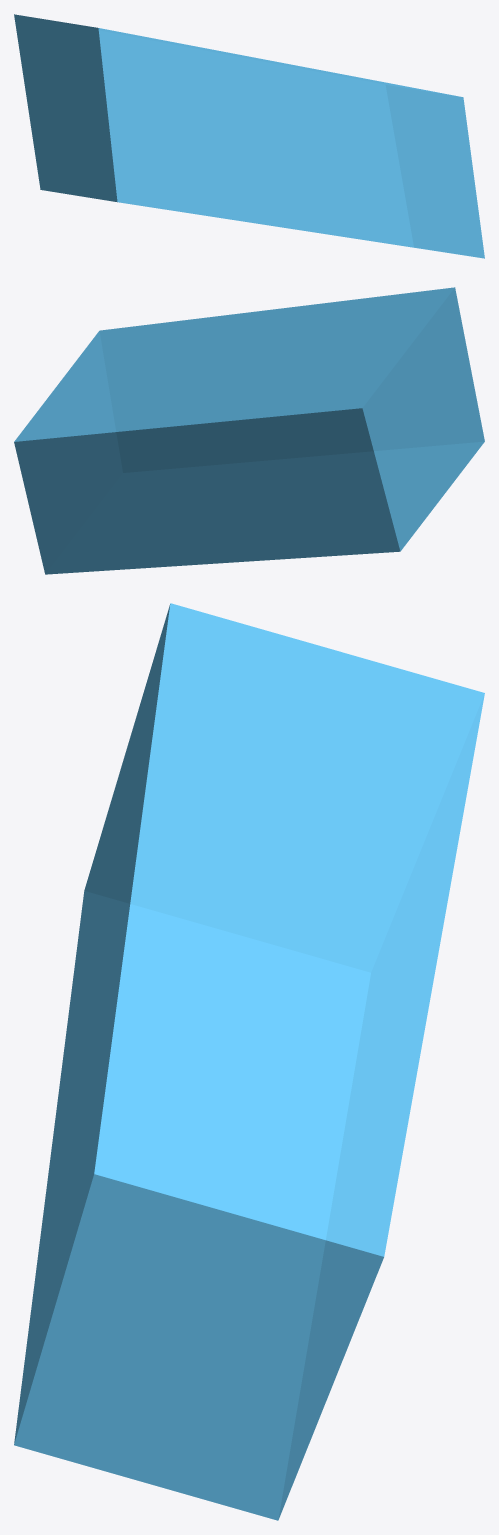
File: Event_421115418_HErechit_81.fbx
The picture shows the model from 3 angles, top to bottom: view 1: azimuth 30°, elevation 25°; view 2: azimuth 150°, elevation 25°; view 3: azimuth 270°, elevation 25°; orthographic projection. The views are drawn at different scales.
Visible parts, largest first — view 1: Model; view 2: Model; view 3: Model.
Boxes of the visible parts, <box> form: Model: <box>14,14,484,258</box>; Model: <box>14,287,484,574</box>; Model: <box>14,603,484,1520</box>.
Bounding box in the file's own units: 0.947 × 0.8427 × 0.595.
